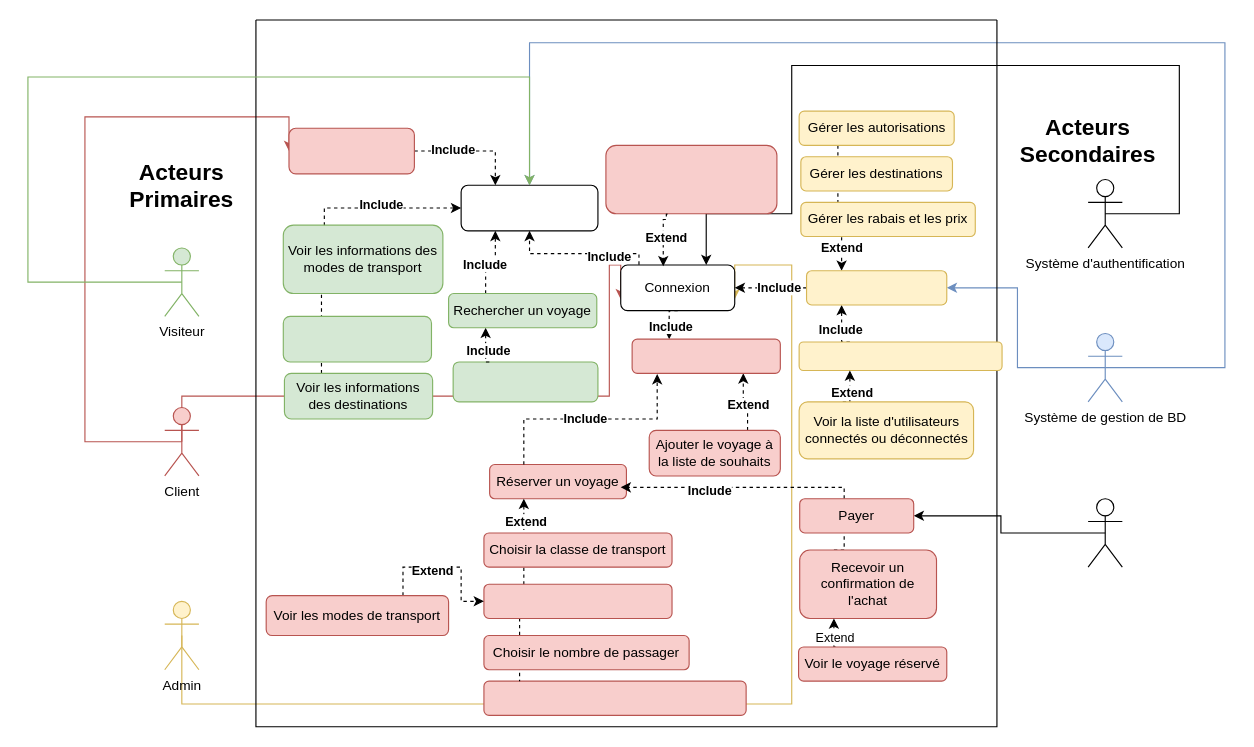
Image size: 1254x747. Some labels were removed from this diagram. Each missing label, with the centre of its shape:
Choisir le mode de transport: the point at 577,600
Choisir le nombre de billets nécessaires: the point at 614,697
Choisir un voyage: the point at 705,355
Consulter les statistiques du site: the point at 900,355
Création de compte: the point at 351,150
Gérer les données: the point at 876,287
Modifier ces informations personnels: the point at 691,179
Système de paiement: the point at 1104,532
Voir le site: the point at 529,207
Voir les informations des voyages: the point at 525,381
Voir les prix et les rabais des voyages: the point at 356,338
